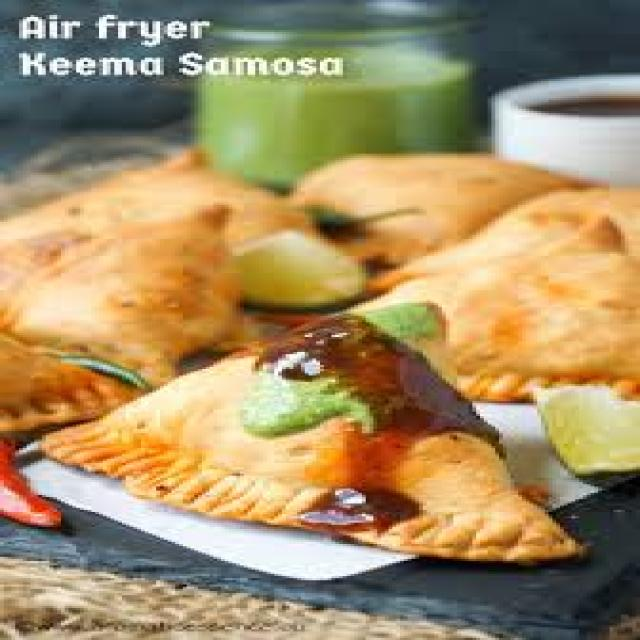SAMOSA: (39, 314, 582, 568)
